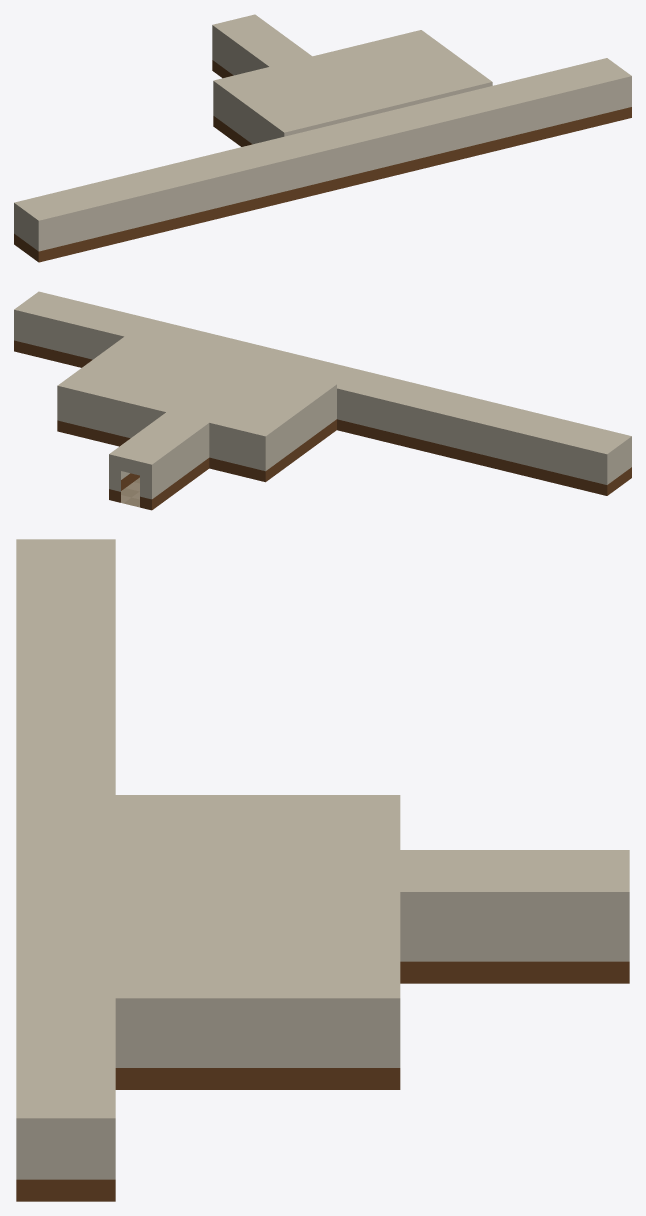
File: ambrose_int.glb
3 renders of one model, top to bottom at view 1: azimuth 30°, elevation 25°; view 2: azimuth 150°, elevation 25°; view 3: azimuth 270°, elevation 25°, orthographic. The views are drawn at different scales.
Visible parts, largest first — view 1: ambrose_int; view 2: ambrose_int; view 3: ambrose_int.
Boxes of the visible parts, x1,y1,x2,y2 form: ambrose_int: [14, 14, 631, 262]; ambrose_int: [14, 291, 631, 510]; ambrose_int: [16, 539, 629, 1201].
Size of the model in its own units: 62.1 by 4.6 by 27.8.
